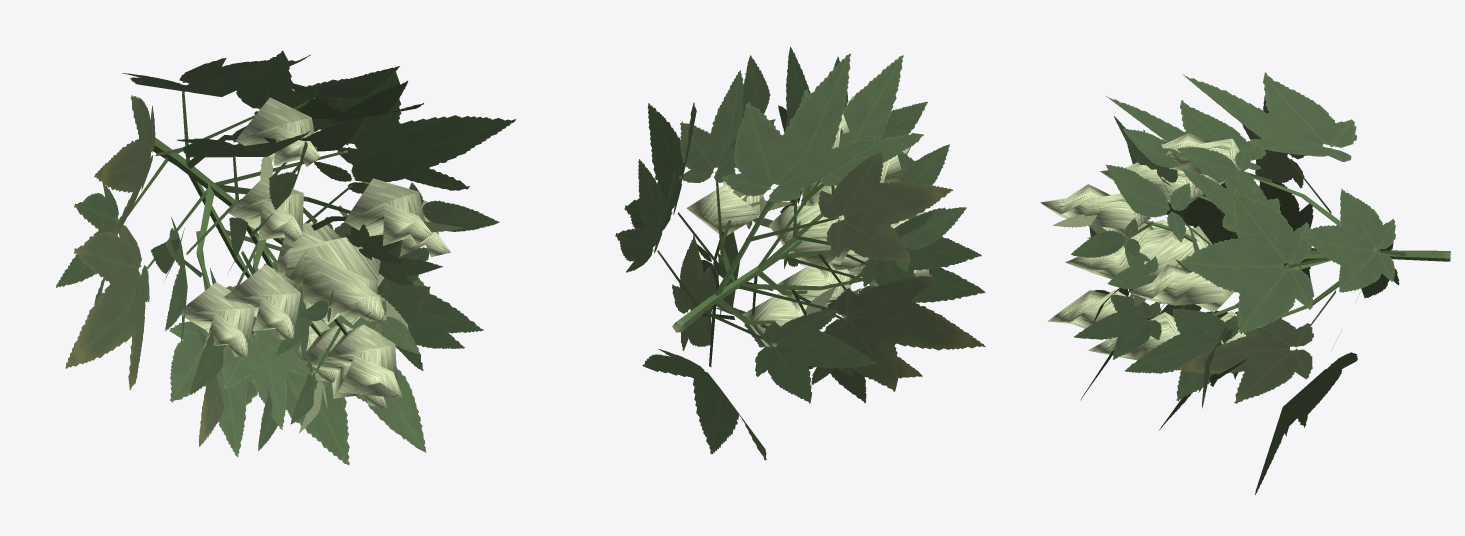
Rendered from p_frosty_afghan_ripe_c0_cards.obj.
3 views of the same model, side by side, from view 1: azimuth 30°, elevation 25°; view 2: azimuth 150°, elevation 25°; view 3: azimuth 270°, elevation 25° (orthographic). The views are drawn at different scales.
Bounding box in the file's own units: 1.44 × 1.45 × 1.23.
1 material, 1 textured.
